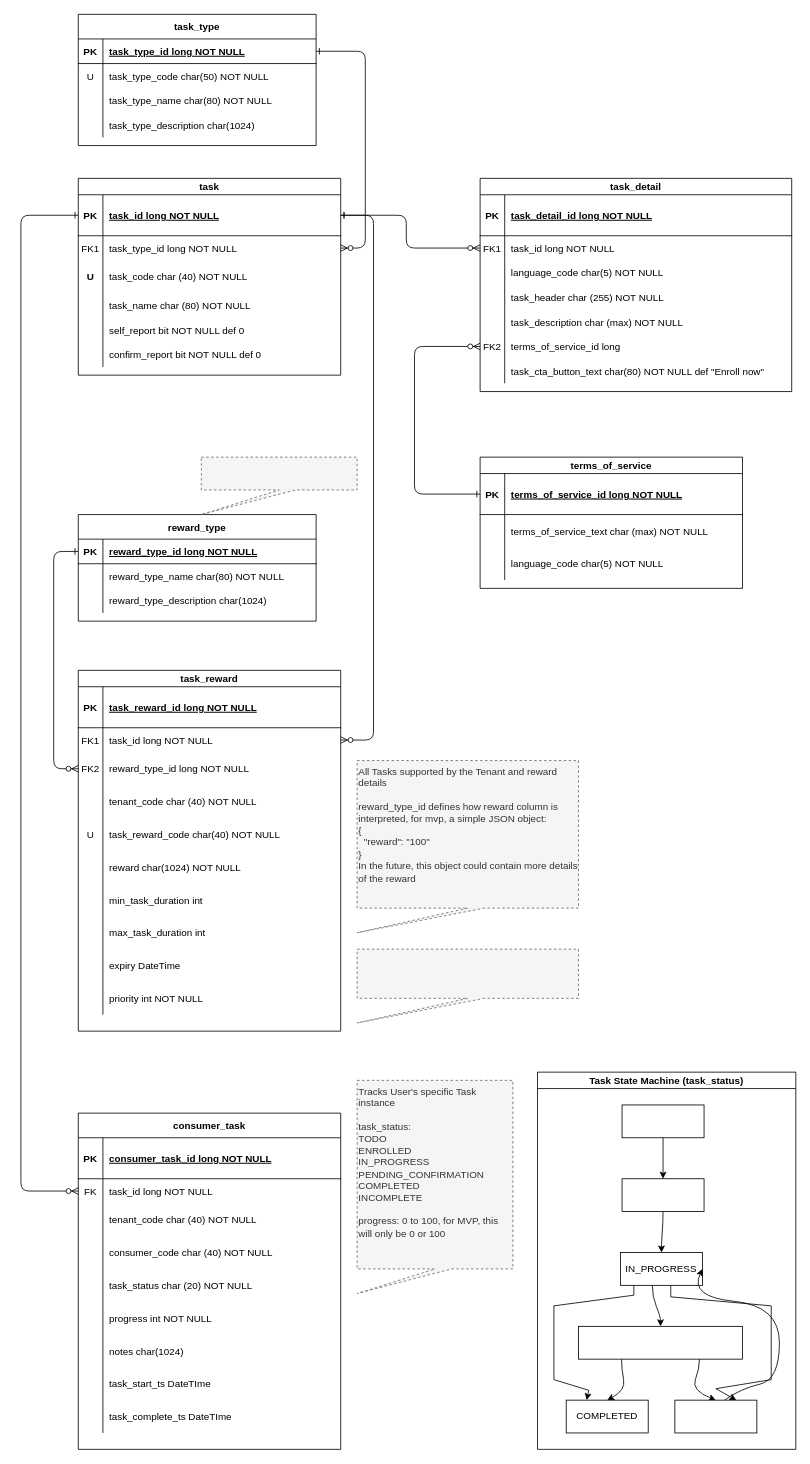
This 810x1464 diagram has some shape labels left out. The centre of each missing label's shape, as x and y in pixels:
ENROLLED: the point at 662,1195
INCOMPLETE: the point at 715,1416
Only $ type reward initially: the point at 278,485
PENDING_CONFIRMATION: the point at 660,1342
priority field only for PI-1 - will be replaced by cohort after PI-1: the point at 467,985
TODO: the point at 662,1121
